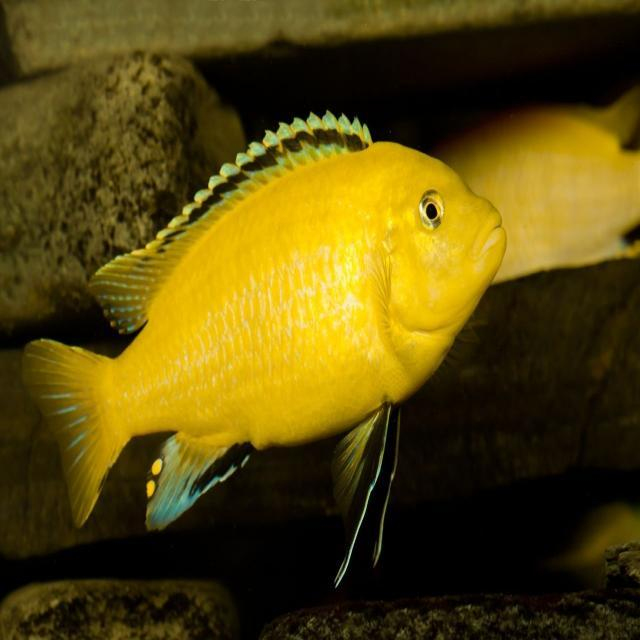YellowCichlid: (34, 110, 514, 536)
